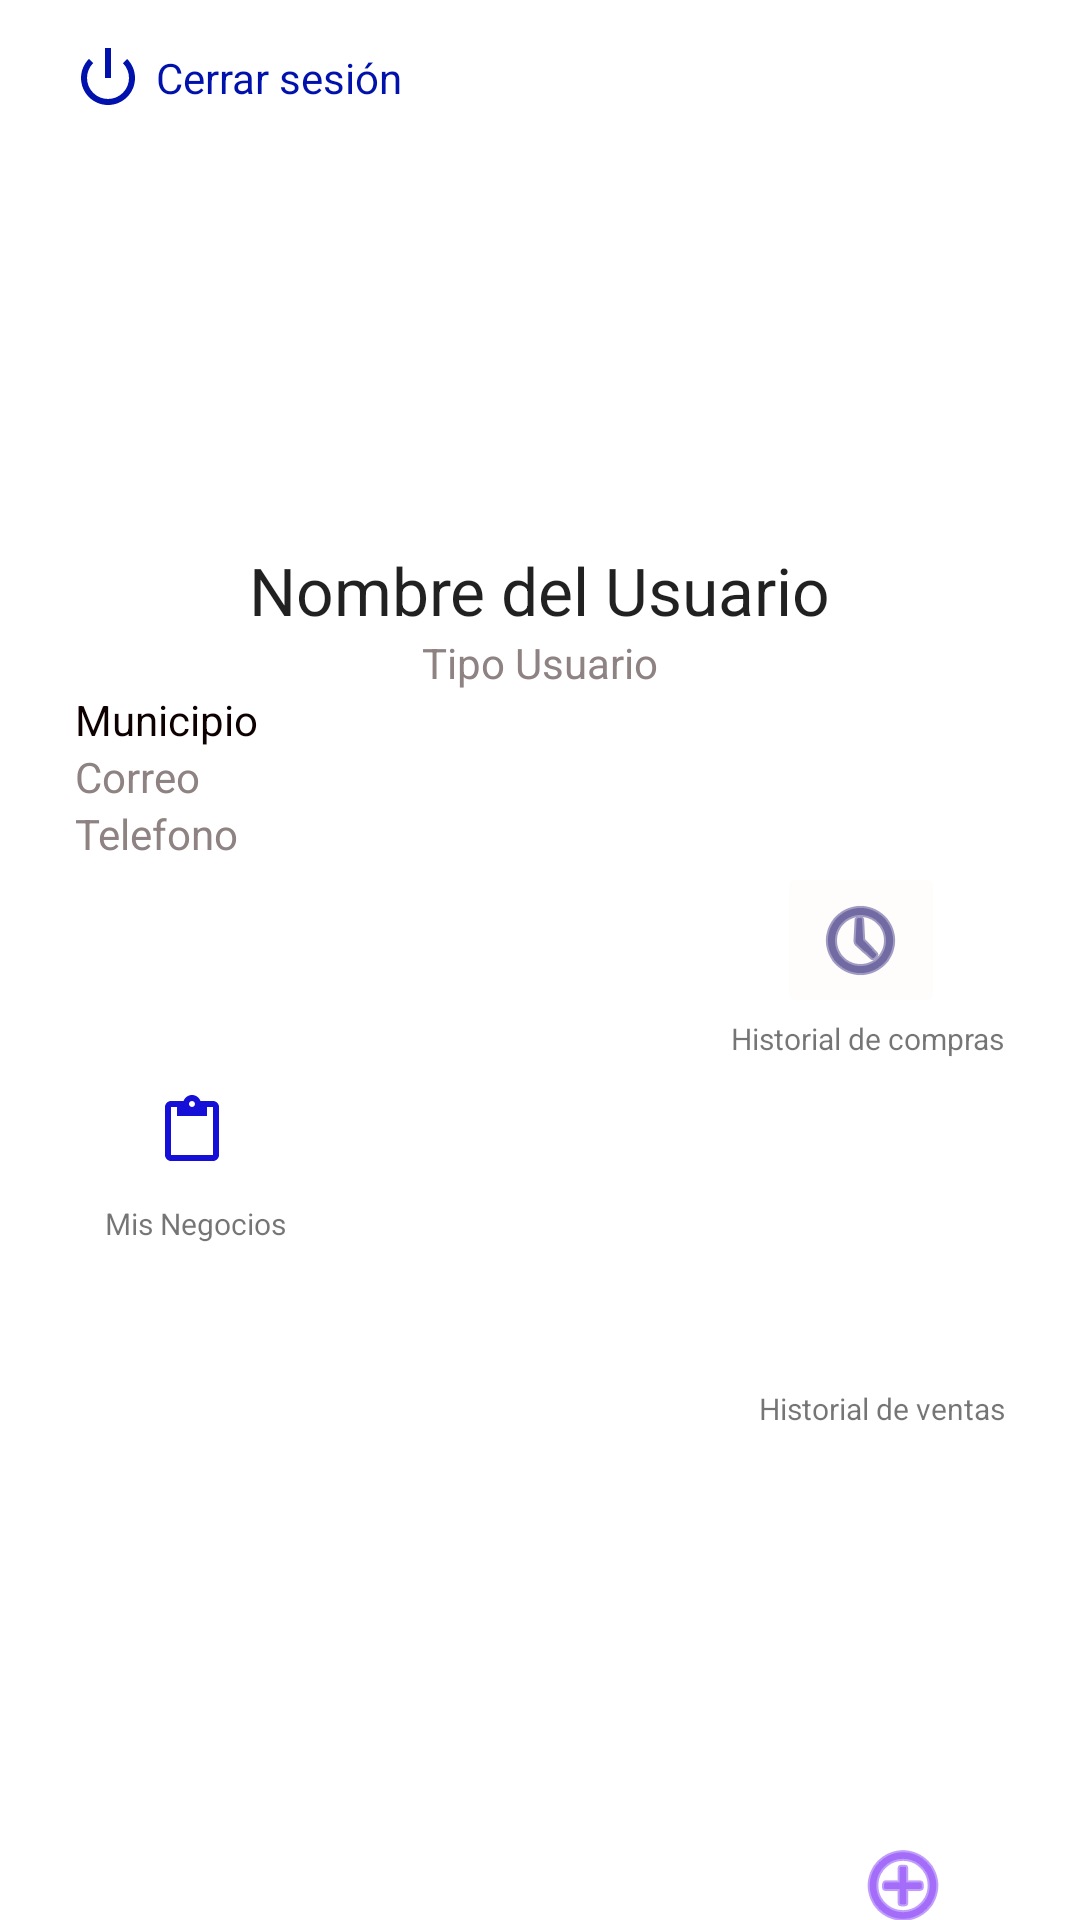

Icon click points for this 1080*1920 phone screenshot, format (x=x, y=y):
add: (x=903, y=1885)
lock power off: (x=108, y=76)
recent history: (x=860, y=940)
